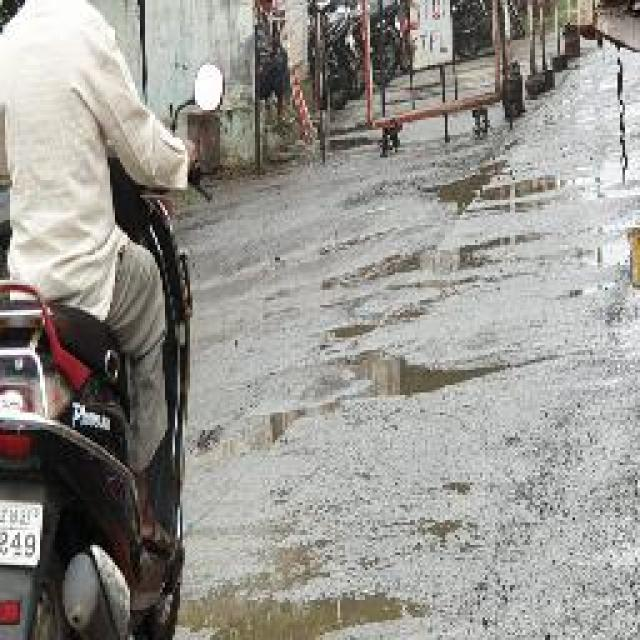puddle: (190, 586, 425, 640), (344, 360, 508, 407)
